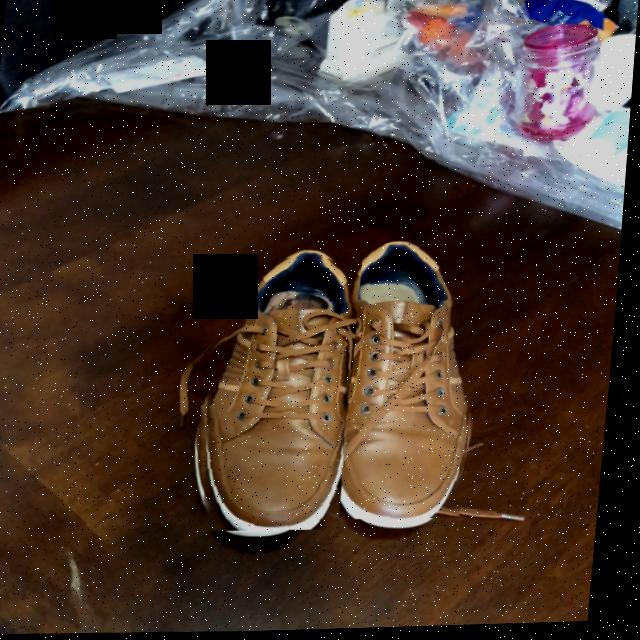shoe: (210, 260, 361, 532), (340, 246, 477, 521)
